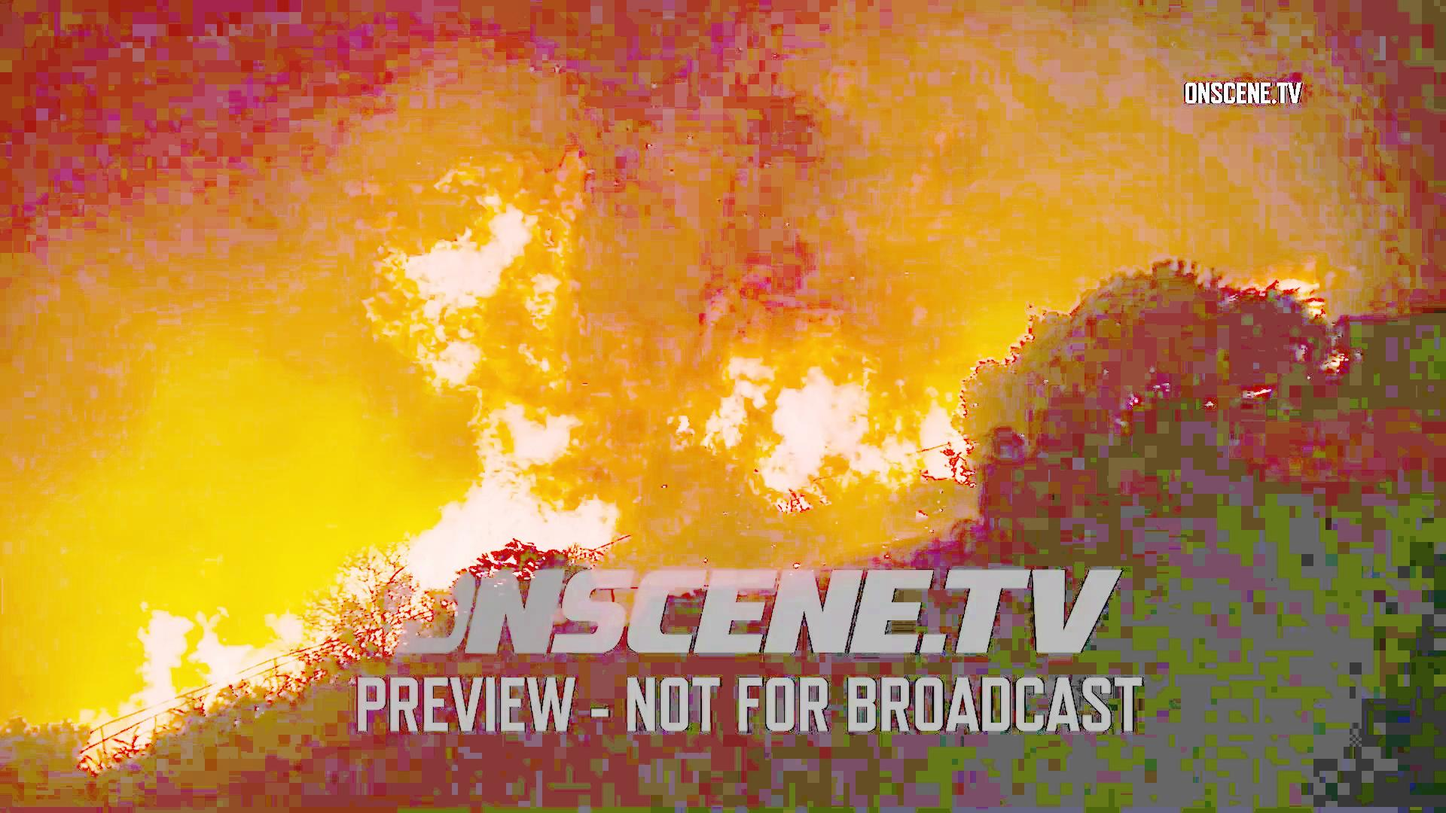fire: (368, 162, 608, 529), (689, 305, 962, 500)
